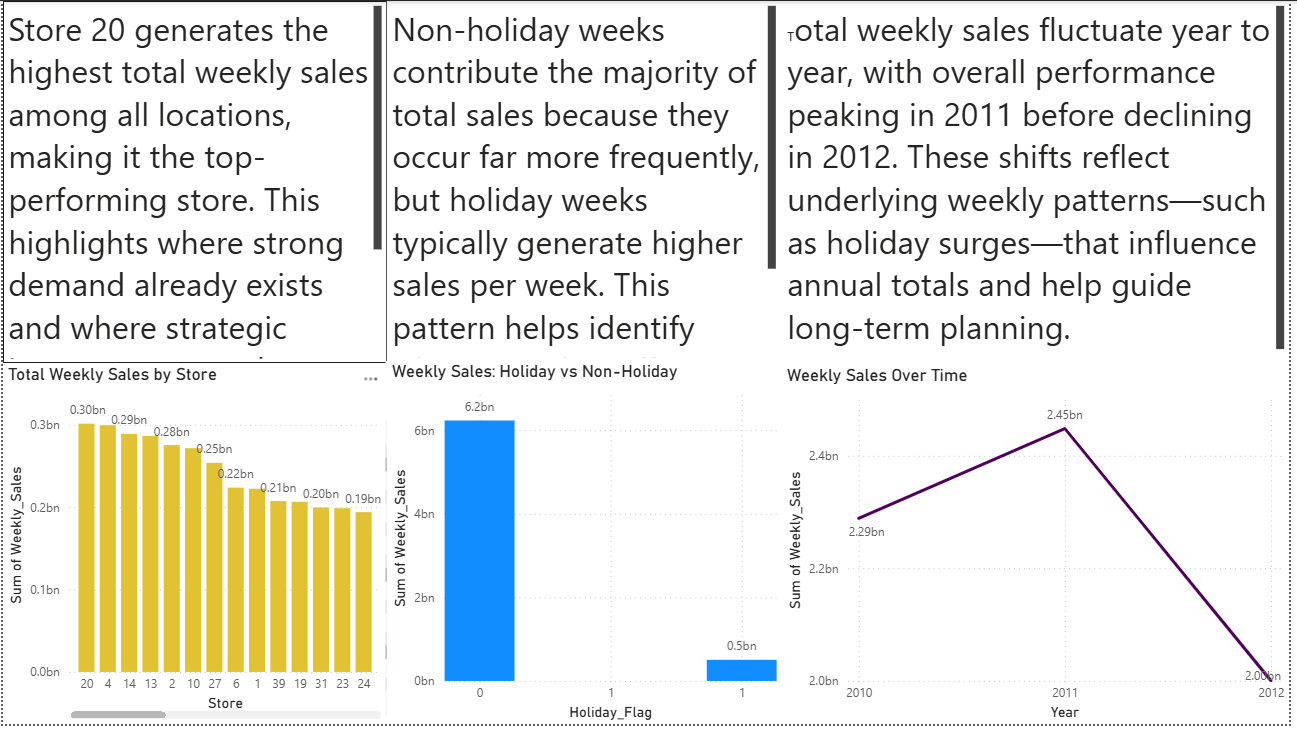

The page's visual inventory and layout, read from the dashboard file:
{"tool":"powerbi","page":{"name":"Page 1","canvas":[1280,720],"ordinal":0},"visuals":[{"type":"clusteredColumnChart","title":"Total Weekly Sales by Store","fields":{"Y":["Sum(walmart.Weekly_Sales)"],"Category":["walmart.Store"]},"box":[0,361,381.5,359],"z":0},{"type":"textbox","box":[0,0,381.5,361],"z":1},{"type":"clusteredBarChart","box":[380.3,358.8,393.6,361.5],"z":2},{"type":"clusteredColumnChart","title":"Weekly Sales: Holiday vs Non-Holiday","fields":{"Category":["walmart.Holiday_Flag"],"Y":["Sum(walmart.Weekly_Sales)"]},"box":[381.7,358.6,393.3,362.4],"z":3},{"type":"textbox","box":[382,0,392,359],"z":4},{"type":"lineChart","title":"Weekly Sales Over Time","fields":{"Category":["walmart.Date.Variation.Date Hierarchy.Year","walmart.Date.Variation.Date Hierarchy.Quarter","walmart.Date.Variation.Date Hierarchy.Month","walmart.Date.Variation.Date Hierarchy.Day"],"Y":["Sum(walmart.Weekly_Sales)"]},"box":[774.9,362.4,505.1,358.6],"z":5},{"type":"textbox","box":[775,0,505,359],"z":6}]}

Visuals, with their boxes in screenshot pixels (x1, y1, x2, y2), scaled from the page's 1280x720 canvas onto the 1297x733 screenshot:
"Total Weekly Sales by Store" clusteredColumnChart: (0,368,387,732)
textbox: (0,0,387,368)
clusteredBarChart: (385,365,784,732)
"Weekly Sales: Holiday vs Non-Holiday" clusteredColumnChart: (387,365,785,732)
textbox: (387,0,784,365)
"Weekly Sales Over Time" lineChart: (785,369,1296,732)
textbox: (785,0,1296,365)
